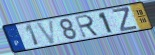1: (98, 11, 114, 34), (25, 23, 40, 47)
8: (58, 17, 79, 41)
R: (74, 14, 102, 39)
V: (35, 19, 57, 45)
Z: (111, 7, 139, 33)
